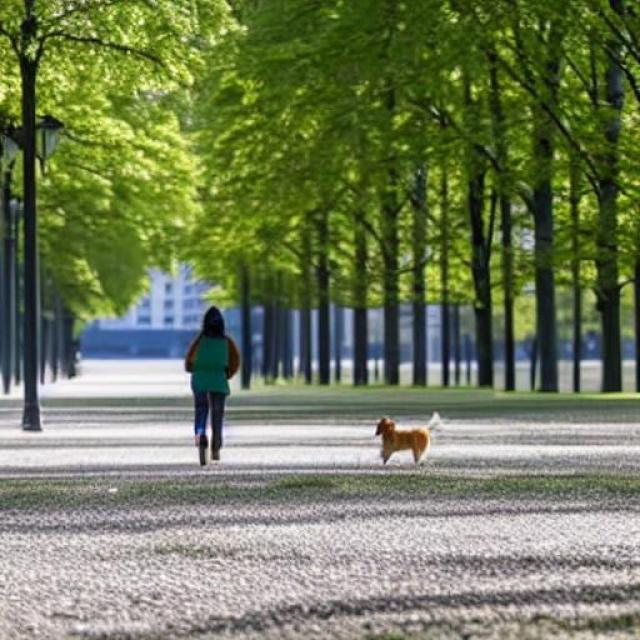Unleashed_Dog: (193, 392, 446, 468)
